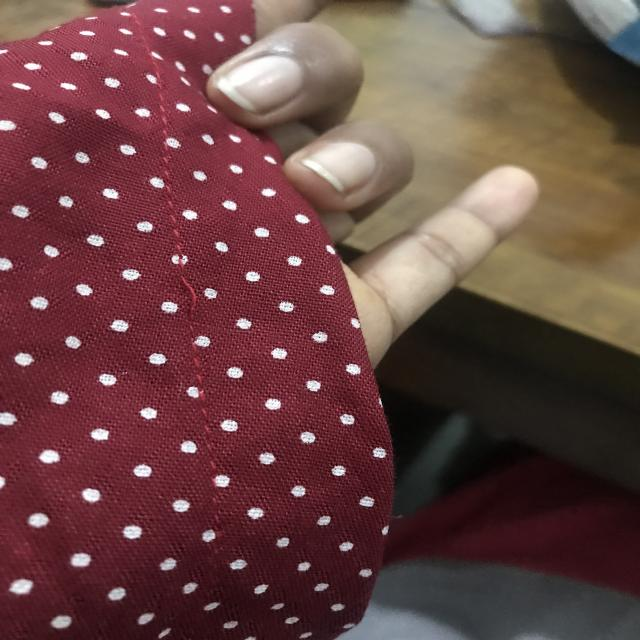skip: (172, 267, 216, 331)
